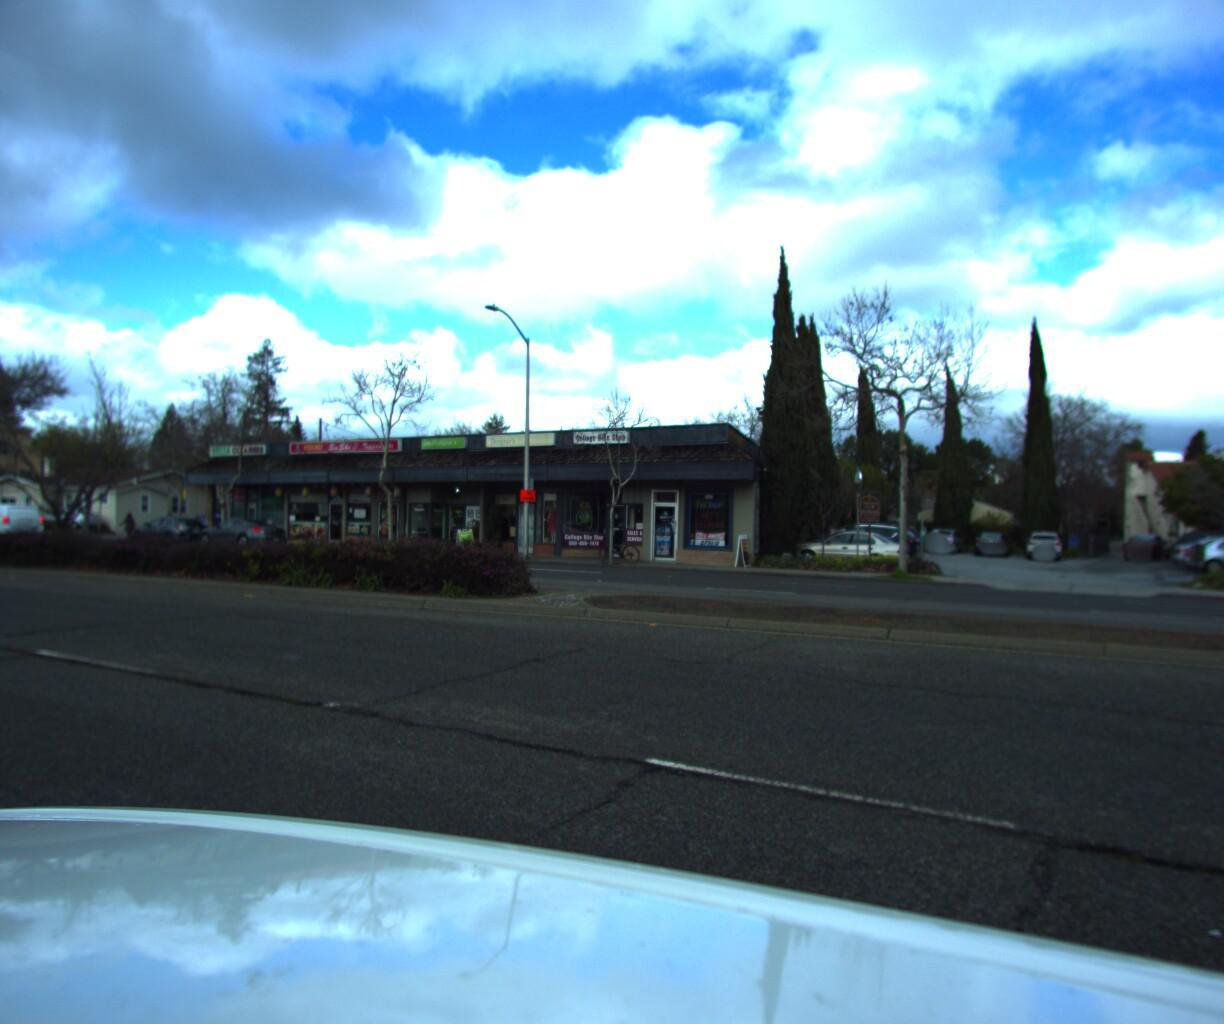bicycle: (597, 532, 646, 560)
car: (777, 522, 915, 571), (794, 516, 925, 565), (188, 511, 296, 549), (122, 509, 215, 545)
